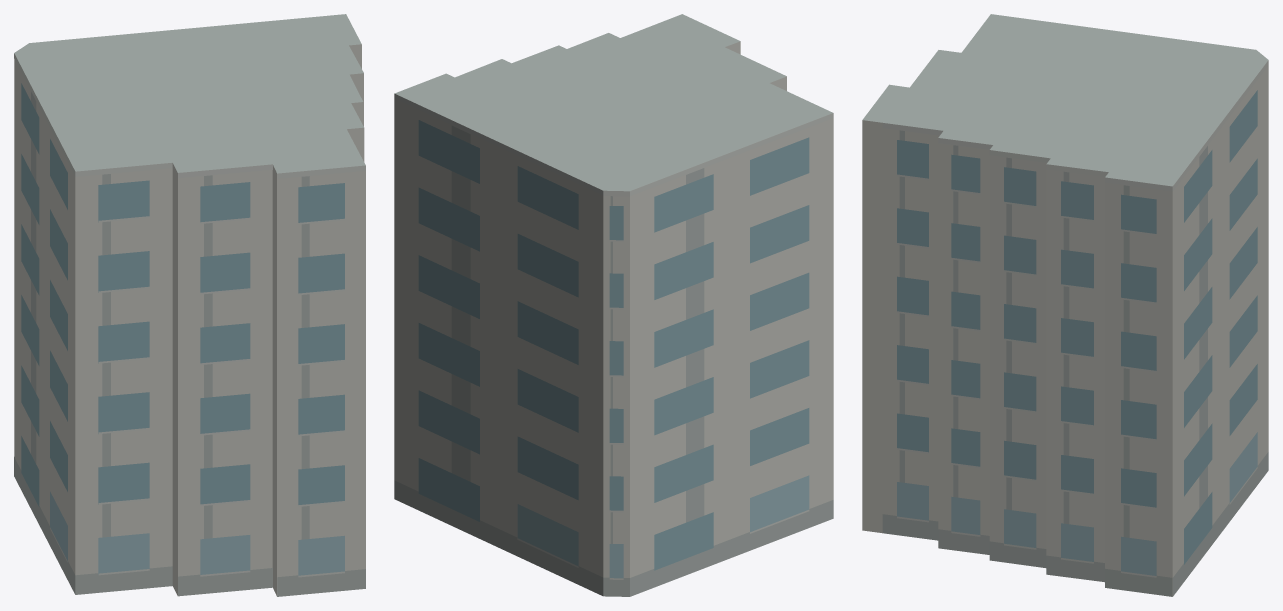
The model's file is survey-upis-32870263.glb.
The picture shows the model from 3 angles, left to right: view 1: azimuth 30°, elevation 25°; view 2: azimuth 150°, elevation 25°; view 3: azimuth 270°, elevation 25°; orthographic projection. The views are drawn at different scales.
Parts seen in each view (by area): view 1: survey-upis-32870263.tmp; view 2: survey-upis-32870263.tmp; view 3: survey-upis-32870263.tmp.
Part boxes in pixels (<box>): survey-upis-32870263.tmp: <box>14,14,365,596</box>; survey-upis-32870263.tmp: <box>394,14,833,596</box>; survey-upis-32870263.tmp: <box>862,14,1268,596</box>.
Size of the model in its own units: 16.95 by 18.8 by 16.88.
